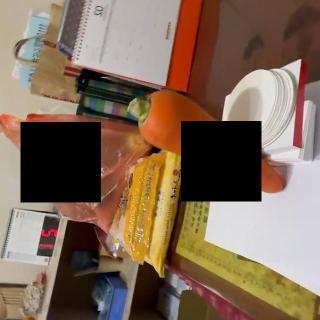carrot: (125, 90, 287, 194)
